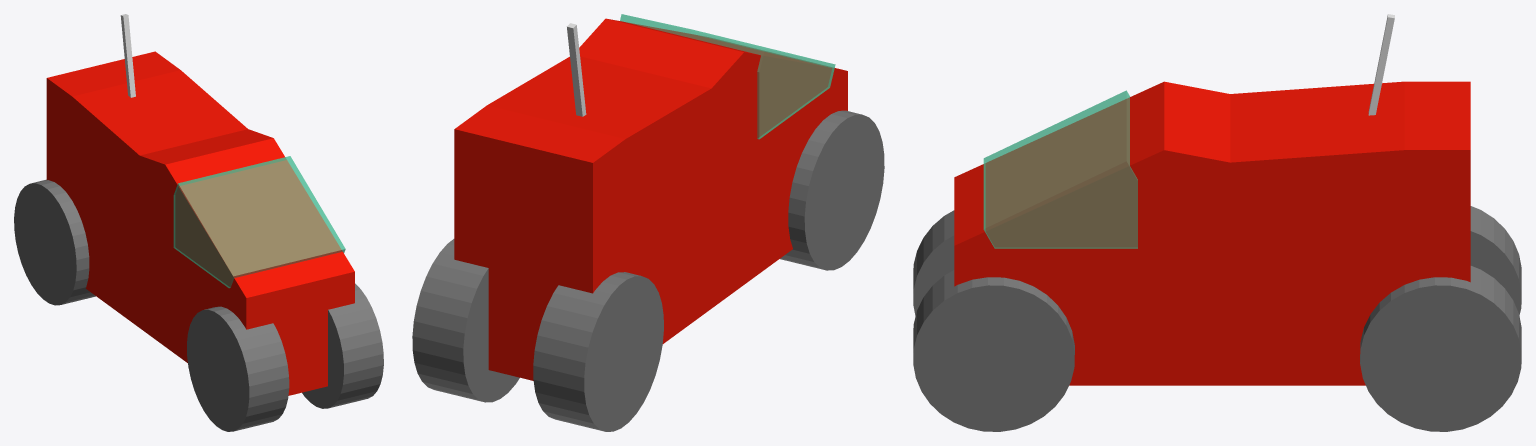
The model's file is unfinishedcar.fbx.
3 renders of one model, left to right at view 1: azimuth 30°, elevation 25°; view 2: azimuth 150°, elevation 25°; view 3: azimuth 270°, elevation 25°, orthographic. The views are drawn at different scales.
Visible parts, largest first — view 1: Cube, Cylinder, Cube.003, Cube.001; view 2: Cube, Cylinder, Cube.003, Cube.001; view 3: Cube, Cylinder, Cube.003, Cube.001.
Boxes of the visible parts, box(x1,y1,x2,y2) form: Cube: box(46, 51, 354, 395); Cylinder: box(14, 179, 383, 431); Cube.003: box(173, 156, 345, 288); Cube.001: box(120, 14, 135, 97); Cube: box(454, 18, 847, 380); Cylinder: box(412, 110, 884, 431); Cube.003: box(620, 14, 835, 139); Cube.001: box(567, 23, 586, 116); Cube: box(954, 81, 1470, 385); Cylinder: box(913, 206, 1521, 431); Cube.003: box(983, 90, 1137, 248); Cube.001: box(1368, 14, 1394, 115).
Bounding box in the file's own units: 248 × 503 × 751.
